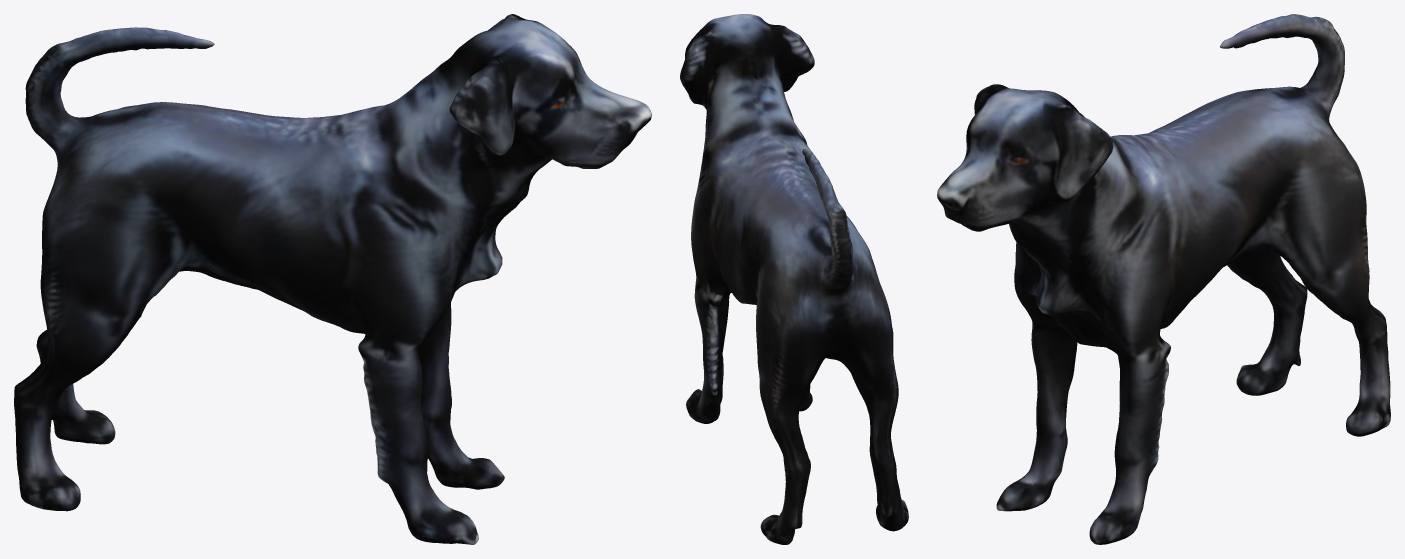
The model's file is black_labrador.glb.
3 renders of one model, left to right at view 1: azimuth 30°, elevation 25°; view 2: azimuth 150°, elevation 25°; view 3: azimuth 270°, elevation 25°, orthographic. The views are drawn at different scales.
Visible parts, largest first — view 1: geometry_0; view 2: geometry_0; view 3: geometry_0.
Part boxes in pixels (bbox=[...]): geometry_0: bbox=[14, 14, 651, 544]; geometry_0: bbox=[680, 14, 908, 544]; geometry_0: bbox=[937, 14, 1390, 544].
Bounding box in the file's own units: 0.7024 × 0.7302 × 0.6761.
Materials: 1 (1 with a texture image).
